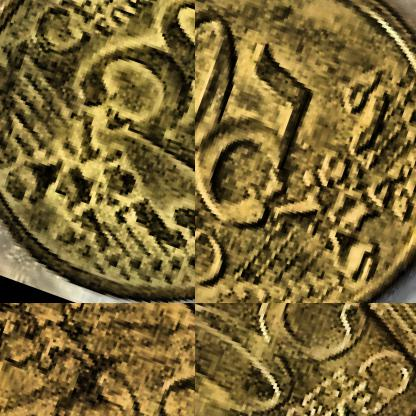coin: (195, 0, 415, 302), (0, 0, 194, 302), (195, 303, 415, 415), (0, 303, 194, 415)
